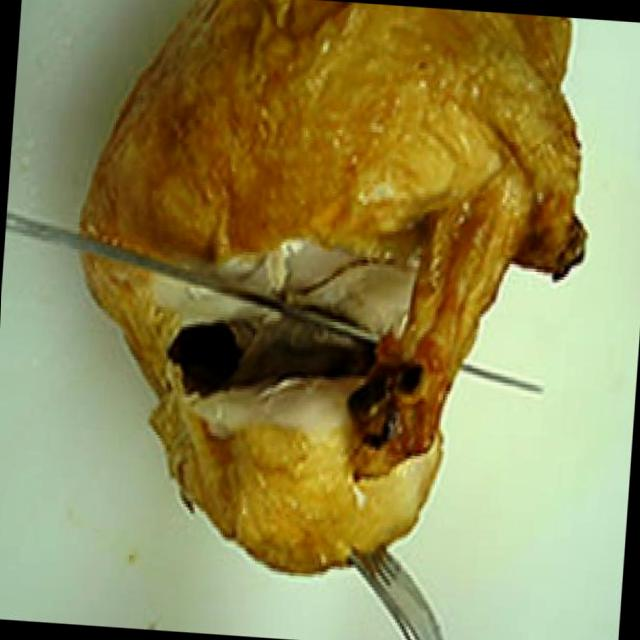Chicken: (56, 0, 603, 608)
